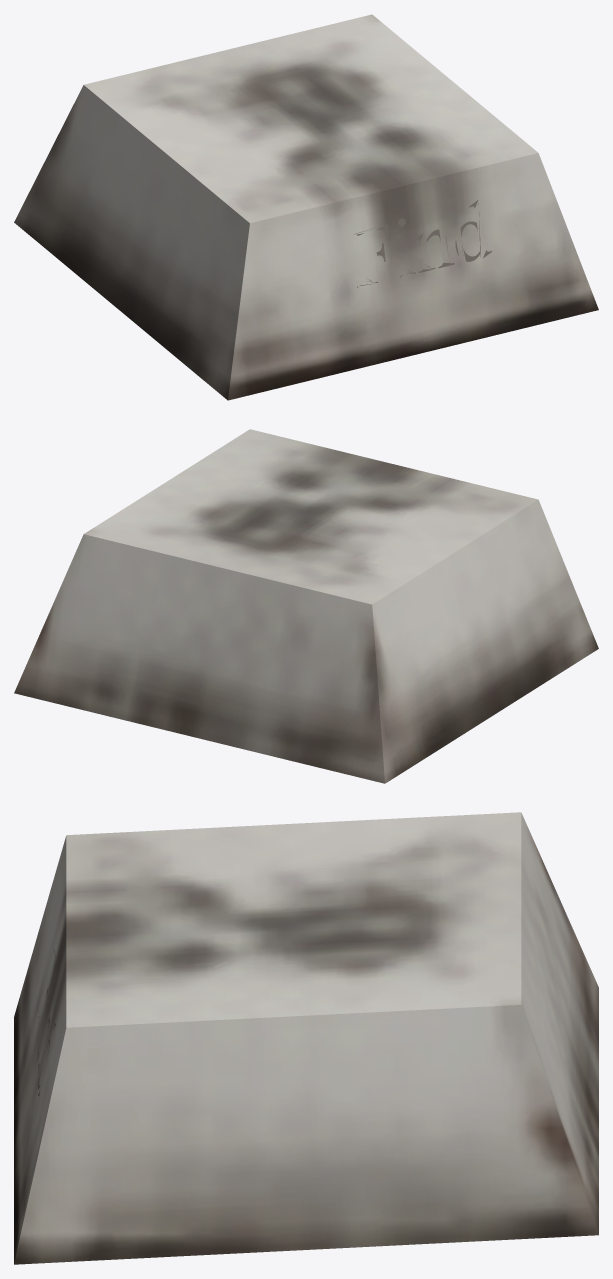
File: link_7__key-13.glb
3 views of the same model, one above another, from view 1: azimuth 30°, elevation 25°; view 2: azimuth 150°, elevation 25°; view 3: azimuth 270°, elevation 25° (orthographic). The views are drawn at different scales.
Parts seen in each view (by area): view 1: geometry_0; view 2: geometry_0; view 3: geometry_0.
Part boxes in pixels (left/top/right/bottom): geometry_0: left=14, top=14, right=598, bottom=400; geometry_0: left=14, top=429, right=598, bottom=783; geometry_0: left=14, top=812, right=598, bottom=1264.
Bounding box in the file's own units: 0.0719 × 0.0315 × 0.0718.
1 material, 1 textured.
